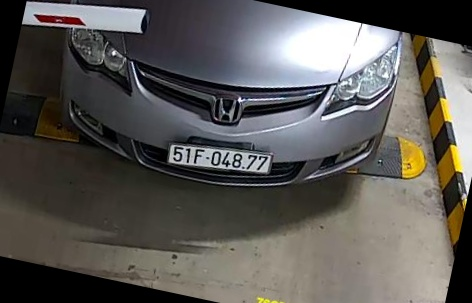plate: (163, 137, 280, 184)
